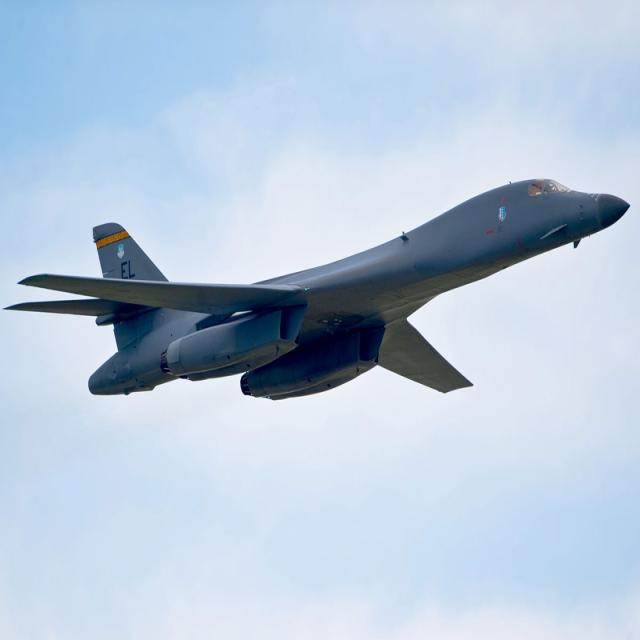B1: (0, 163, 637, 481)
